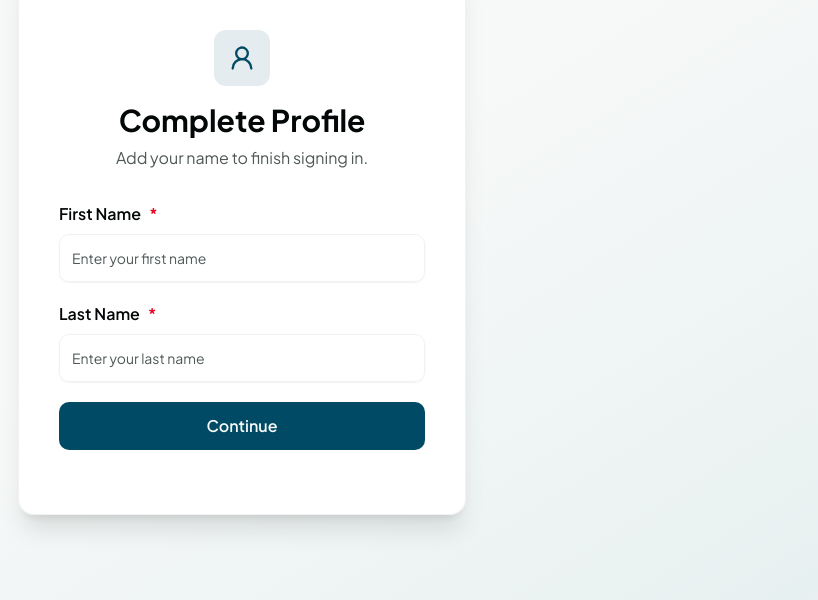
it: CompleteProfilePage › shows error when first name is empty on submit
Type "Doe" into the field labelled "Last Name *" at (242,358), box left=59, top=334, right=425, bottom=382
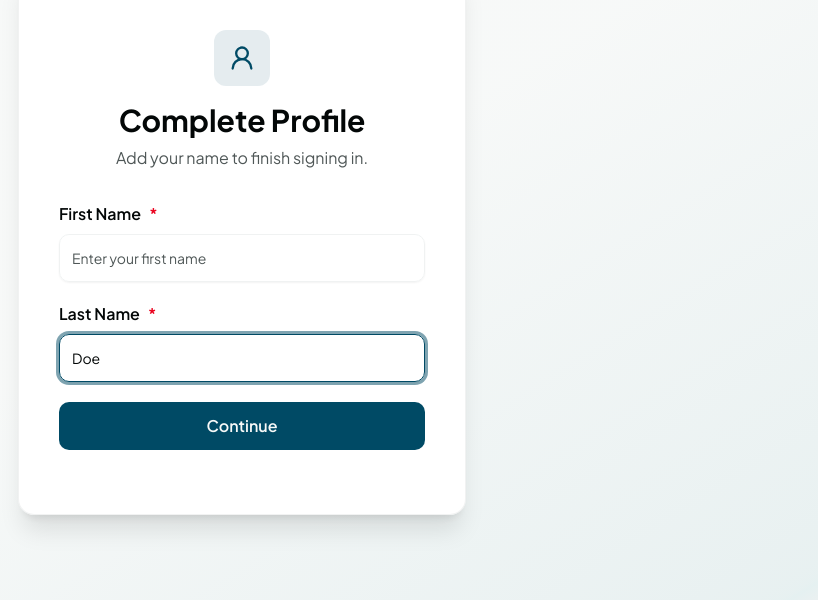
Click the button "Continue" at (242,426), box left=59, top=402, right=425, bottom=450
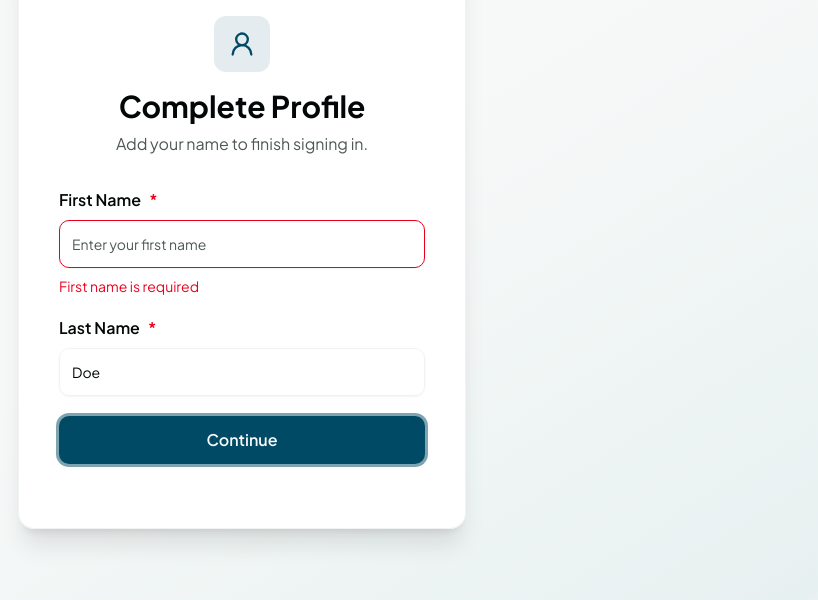
Expected: the text "First name is required" is shown, left=59, top=277, right=199, bottom=295
